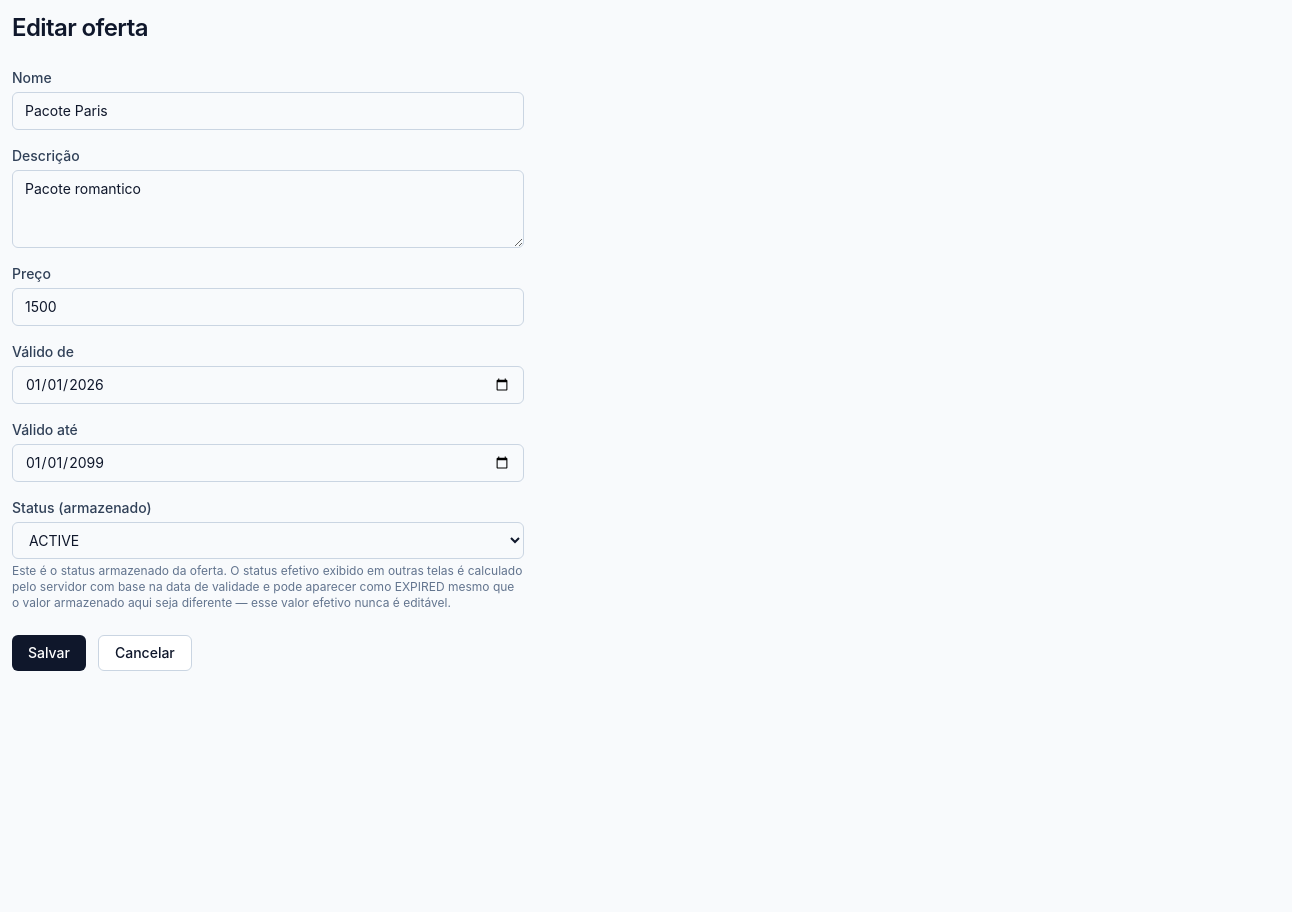
Test: OfferEditPage › 403 error shows a safe permission message
Expected: the field labelled "Nome" is shown, [12, 92, 524, 130]
Click the button "Salvar" at point(49, 653), box [12, 635, 86, 671]
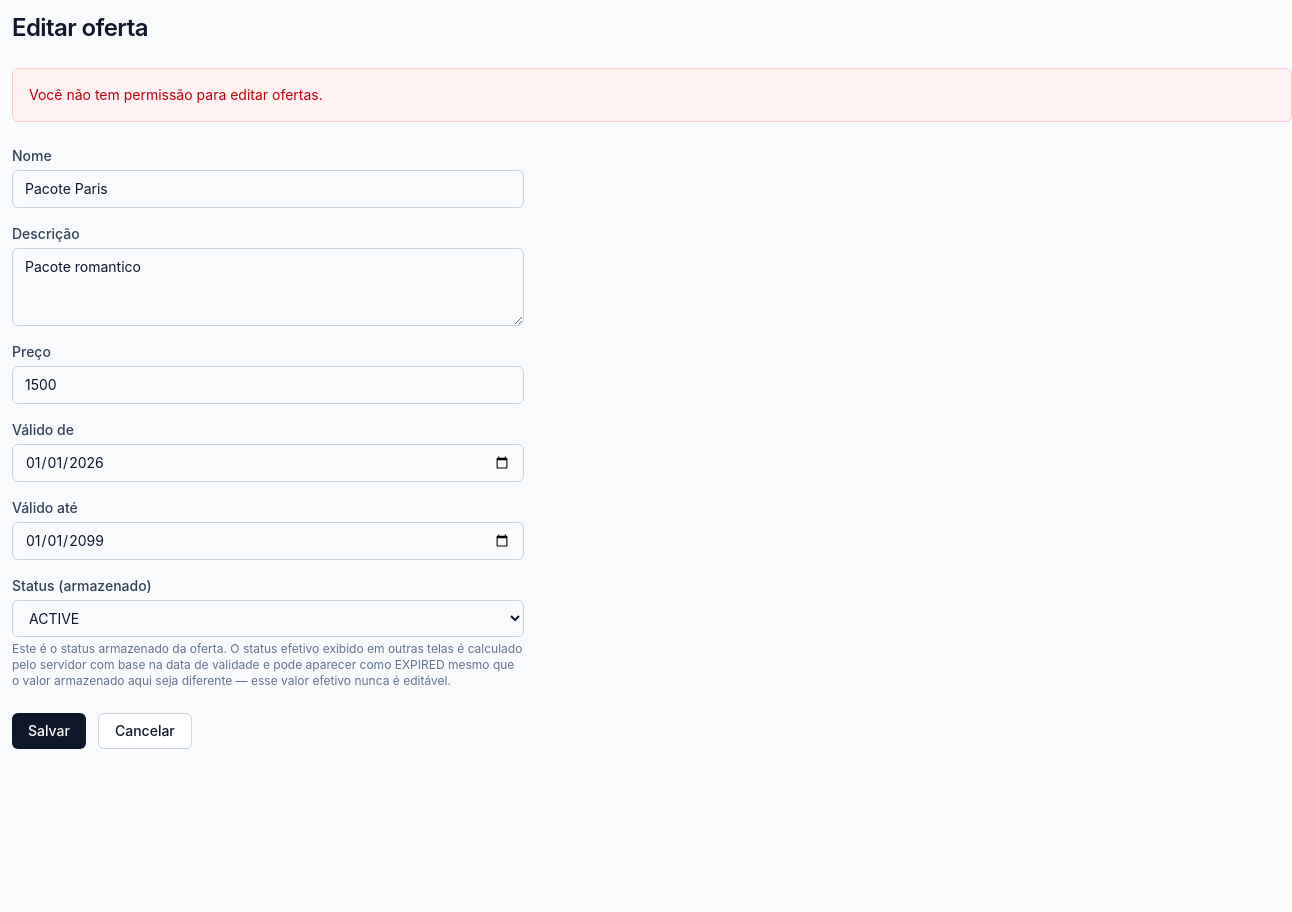
Expected: the text "Você não tem permissão para editar ofertas." is shown, [12, 68, 1291, 122]
